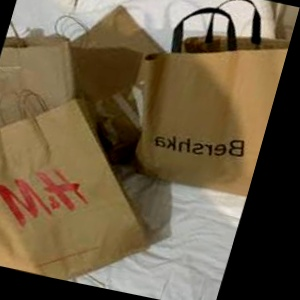bershka: (83, 37, 282, 201)
